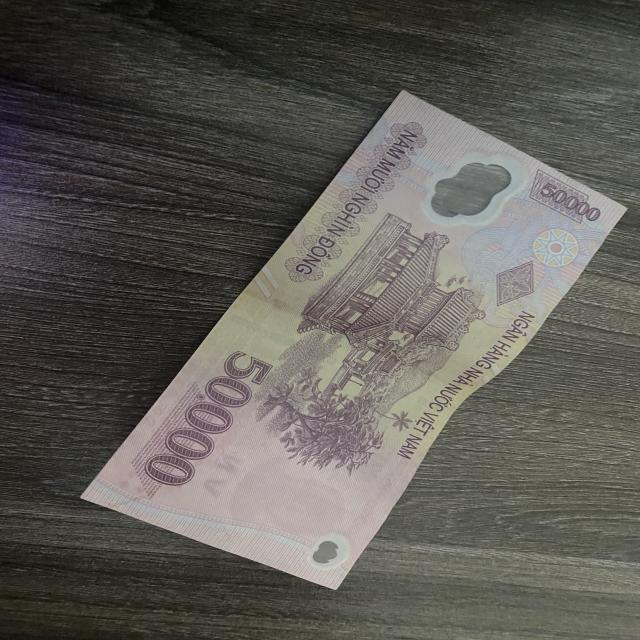50 000 VND: (78, 90, 629, 590)
